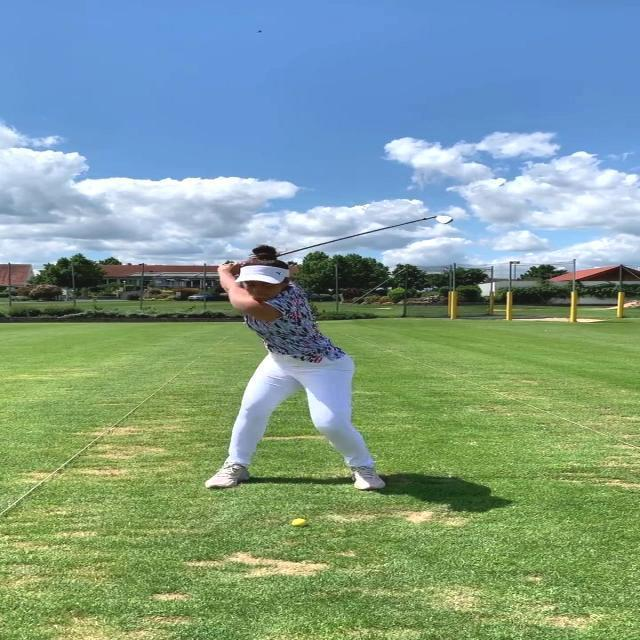ClubHead: (436, 215, 453, 225)
GolfBall: (292, 518, 306, 526)
